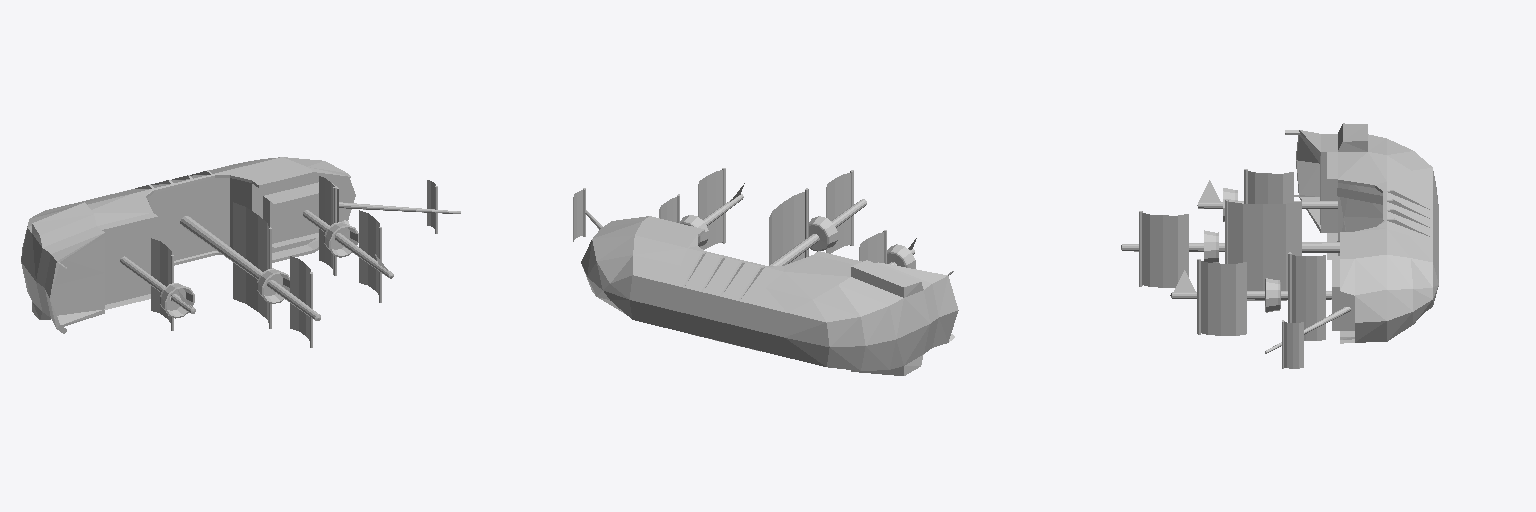
Rendered from Pirate Ship.obj.
3 views of the same model, side by side, from view 1: azimuth 30°, elevation 25°; view 2: azimuth 150°, elevation 25°; view 3: azimuth 270°, elevation 25° (orthographic).
Visible parts, largest first — view 1: Cylinder.001_Cylinder.012; view 2: Cylinder.001_Cylinder.012; view 3: Cylinder.001_Cylinder.012.
Boxes of the visible parts, <box> form: Cylinder.001_Cylinder.012: <box>21,157,460,347</box>; Cylinder.001_Cylinder.012: <box>573,168,958,375</box>; Cylinder.001_Cylinder.012: <box>1121,123,1438,368</box>.
Size of the model in its own units: 10.28 by 2.61 by 7.13.